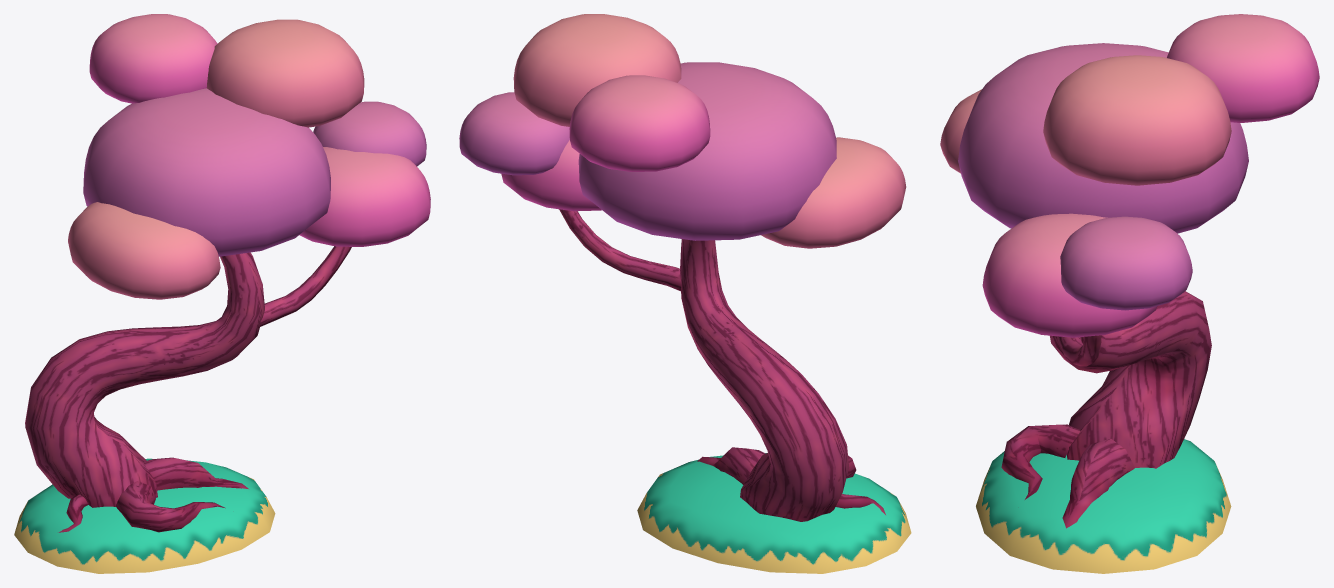
The model's file is TreeR_001.fbx.
The picture shows the model from 3 angles, left to right: view 1: azimuth 30°, elevation 25°; view 2: azimuth 150°, elevation 25°; view 3: azimuth 270°, elevation 25°; orthographic projection. The views are drawn at different scales.
Visible parts, largest first — view 1: tree2; view 2: tree2; view 3: tree2.
Part boxes in pixels (bbox=[...]): tree2: bbox=[14, 14, 430, 573]; tree2: bbox=[459, 14, 911, 573]; tree2: bbox=[940, 14, 1319, 573].
Bounding box in the file's own units: 10.18 × 10.77 × 7.07.
1 material, 1 textured.
